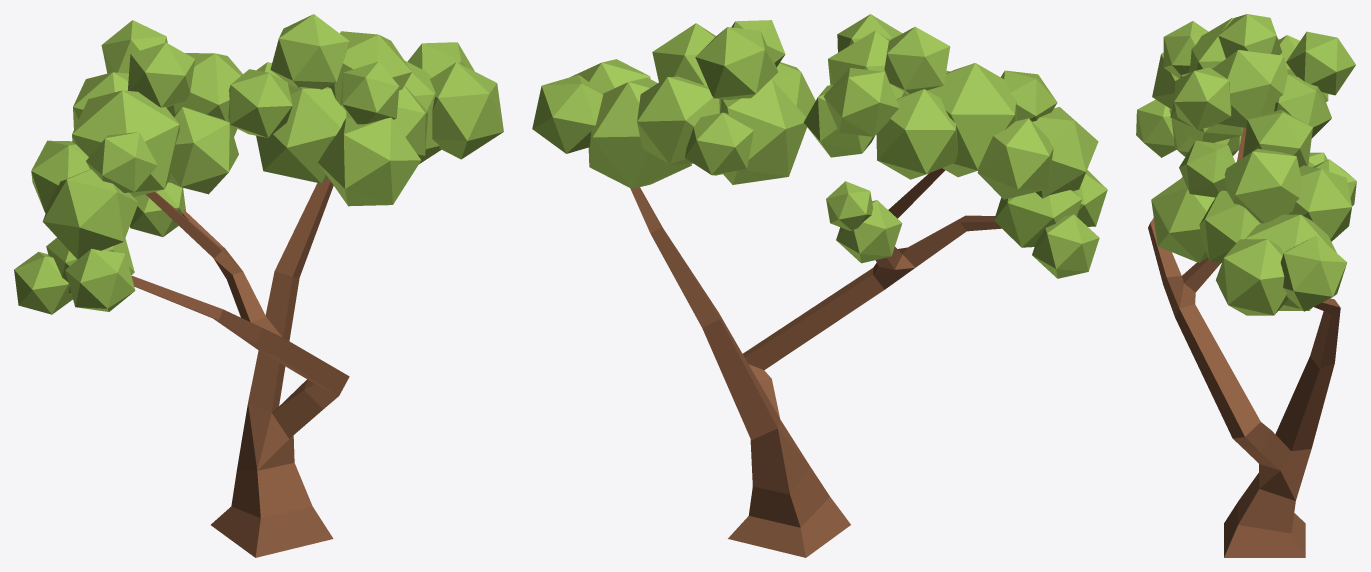
Rendered from Oak6.fbx.
The picture shows the model from 3 angles, left to right: view 1: azimuth 30°, elevation 25°; view 2: azimuth 150°, elevation 25°; view 3: azimuth 270°, elevation 25°; orthographic projection. The views are drawn at different scales.
Parts seen in each view (by area): view 1: MyObject.004; view 2: MyObject.004; view 3: MyObject.004.
Boxes of the visible parts, bbox=[...] form: MyObject.004: bbox=[14, 14, 503, 557]; MyObject.004: bbox=[532, 14, 1107, 557]; MyObject.004: bbox=[1136, 14, 1356, 557].
Size of the model in its own units: 795 by 797 by 335.
Materials: 1 (1 with a texture image).
